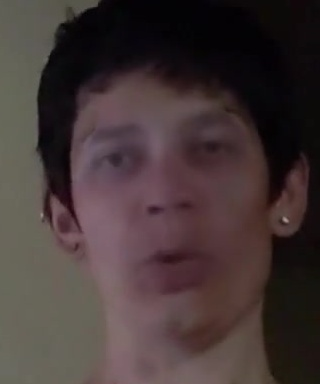eb_f: (73, 101, 264, 183)
